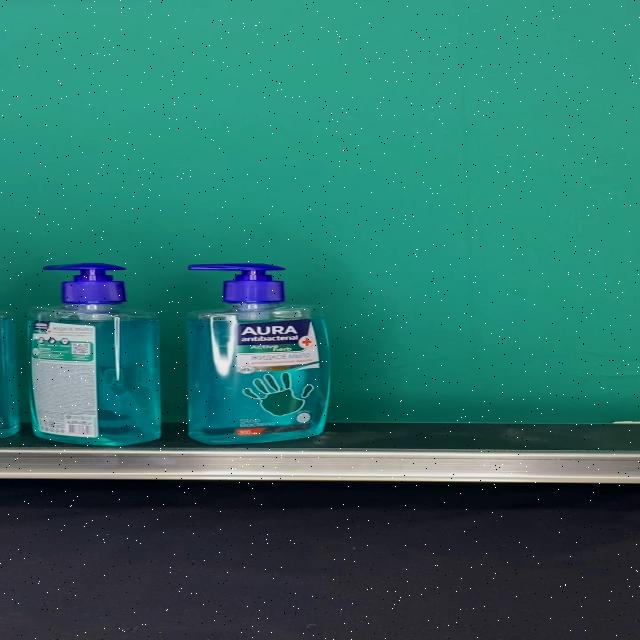Bottle: (185, 262, 331, 444), (27, 263, 162, 446)
Cap: (186, 262, 282, 304), (42, 263, 126, 305)
